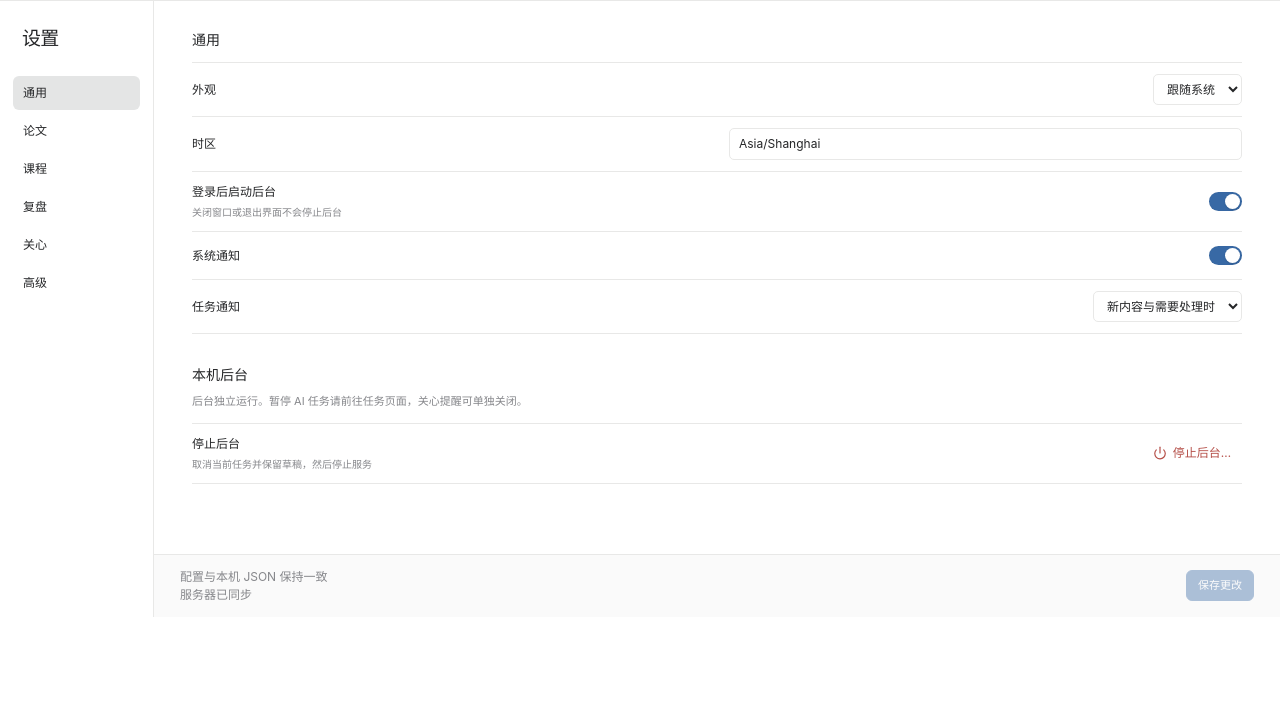
Test: configuration server confirmation › waits for the current server revision and refreshes without replacing the form draft
expect the text "服务器已同步" is shown: met, box [180, 587, 252, 602]
Replace the text in the field labelled "时区" with "Europe/London" at (986, 144), box [729, 128, 1242, 160]
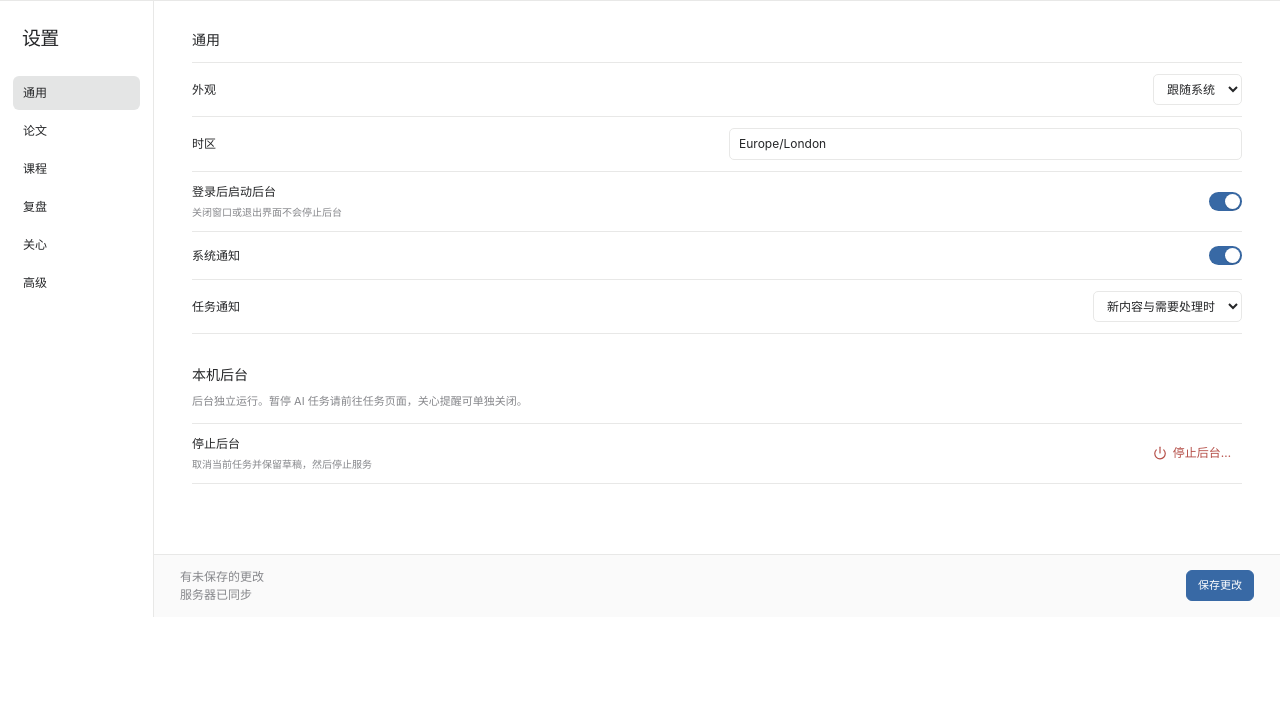
Click the button "保存更改".
click(1220, 586)  # box [1186, 570, 1254, 601]
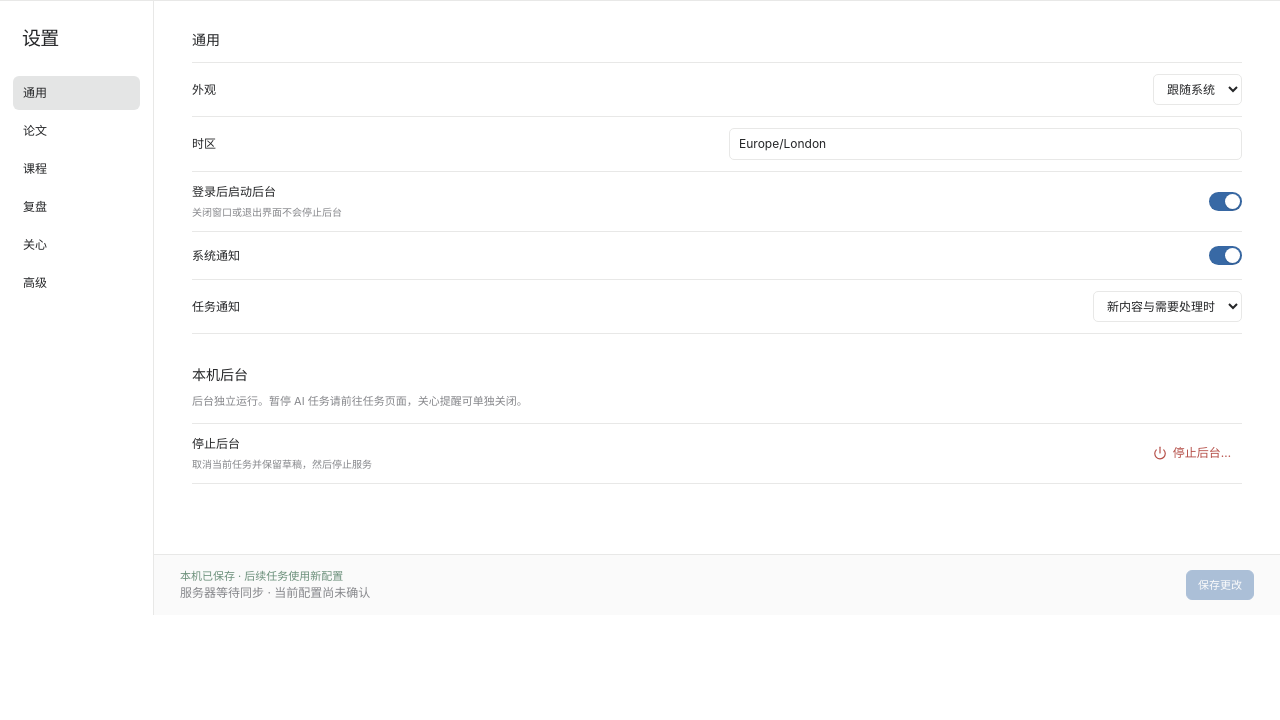
expect the text "服务器等待同步 · 当前配置尚未确认" is shown: met, box [180, 584, 370, 602]
expect the text "服务器已同步" is gone: met
Replace the text in the field labelled "时区" with "Europe/Berlin" at (986, 144), box [729, 128, 1242, 160]
Wait 4000 ms
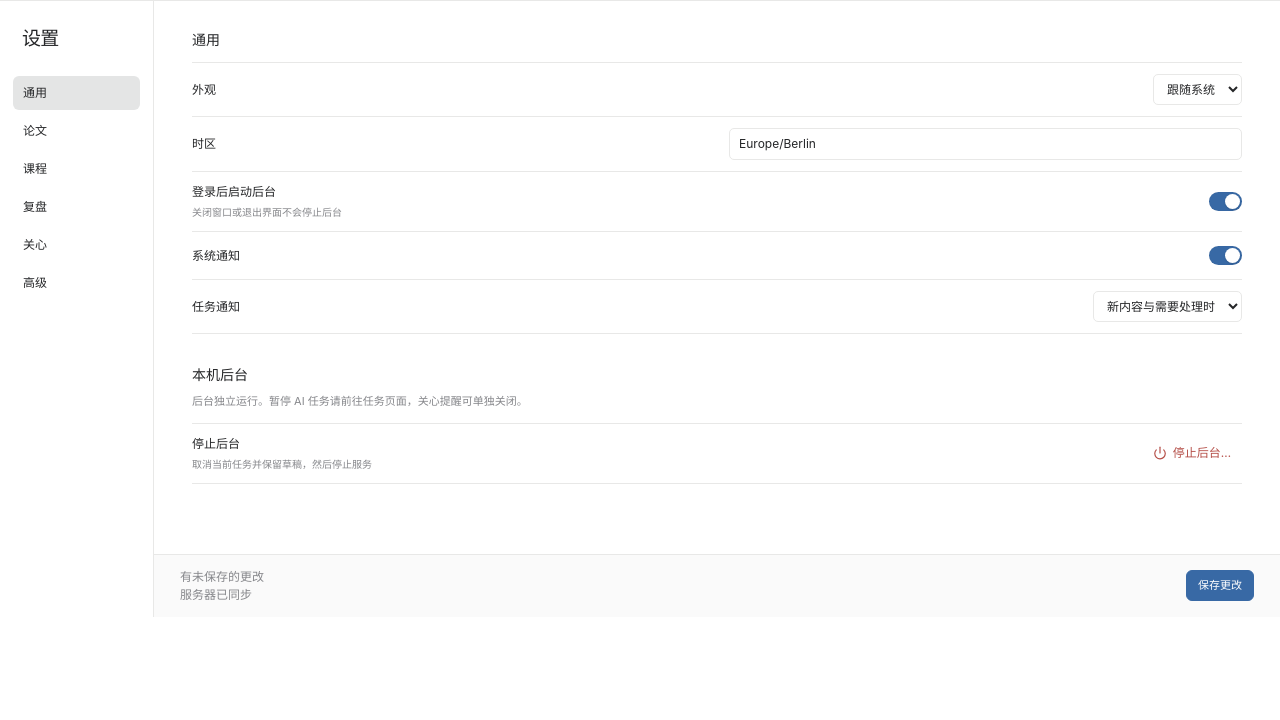
expect the text "服务器已同步" is shown: met, box [180, 586, 264, 604]
